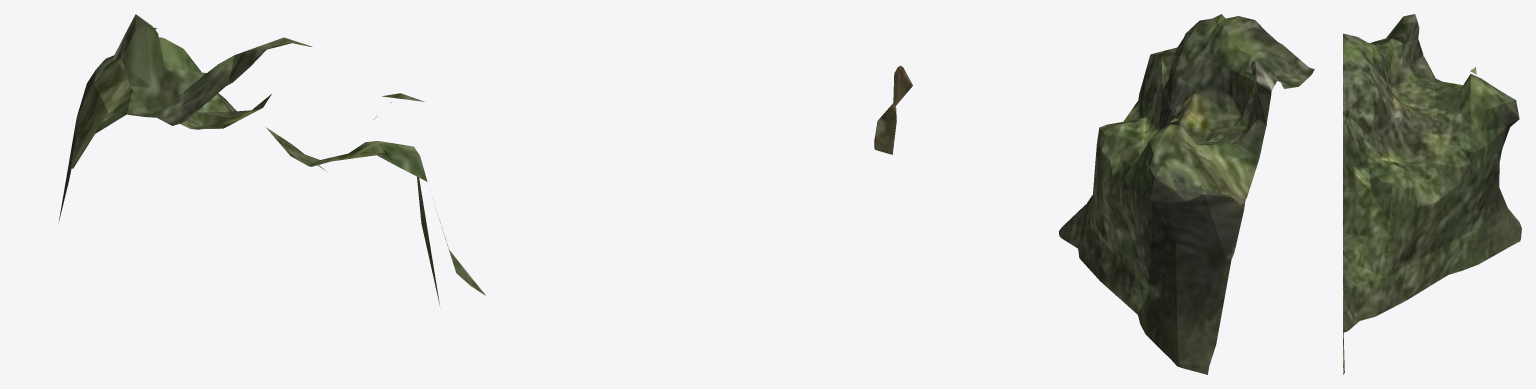
3 renders of one model, left to right at view 1: azimuth 30°, elevation 25°; view 2: azimuth 150°, elevation 25°; view 3: azimuth 270°, elevation 25°, orthographic. The views are drawn at different scales.
Size of the model in its own units: 2.95 by 1.69 by 1.24.
1 material, 1 textured.
